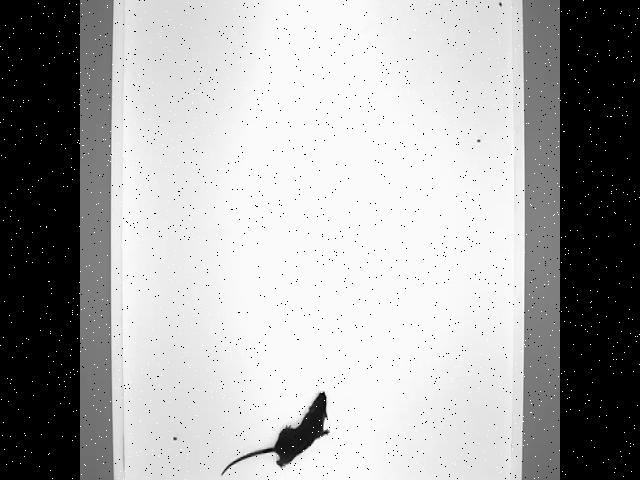Tikus: (215, 384, 333, 480)
